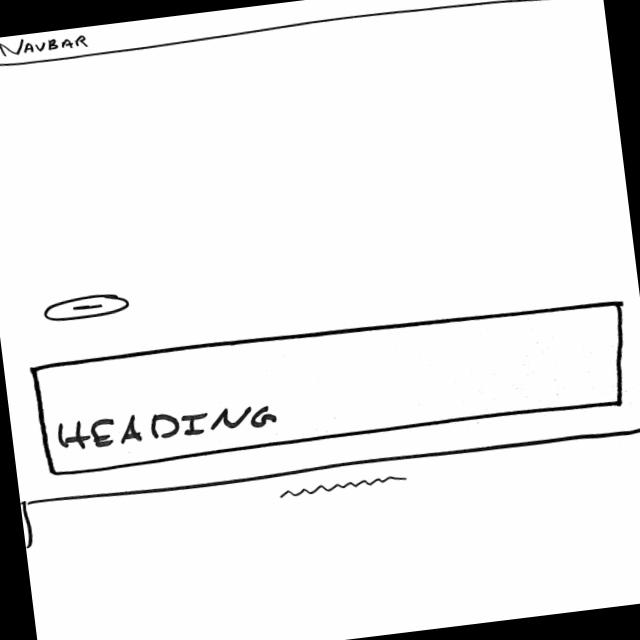container: (32, 292, 633, 478), (0, 0, 602, 71)
icon-button: (40, 290, 132, 324)
label: (52, 396, 280, 454), (0, 31, 89, 60)
text: (276, 474, 411, 499)
